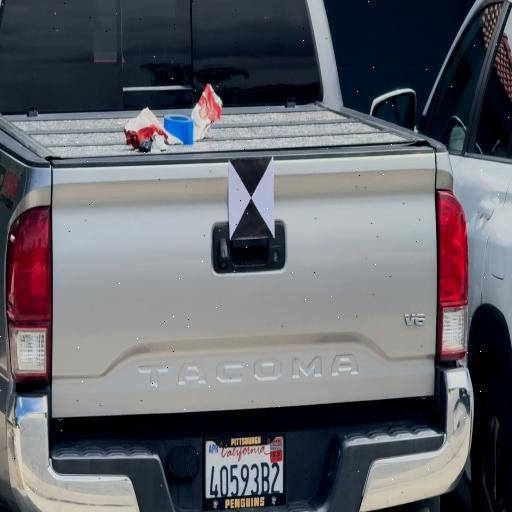target: (230, 158, 274, 238)
